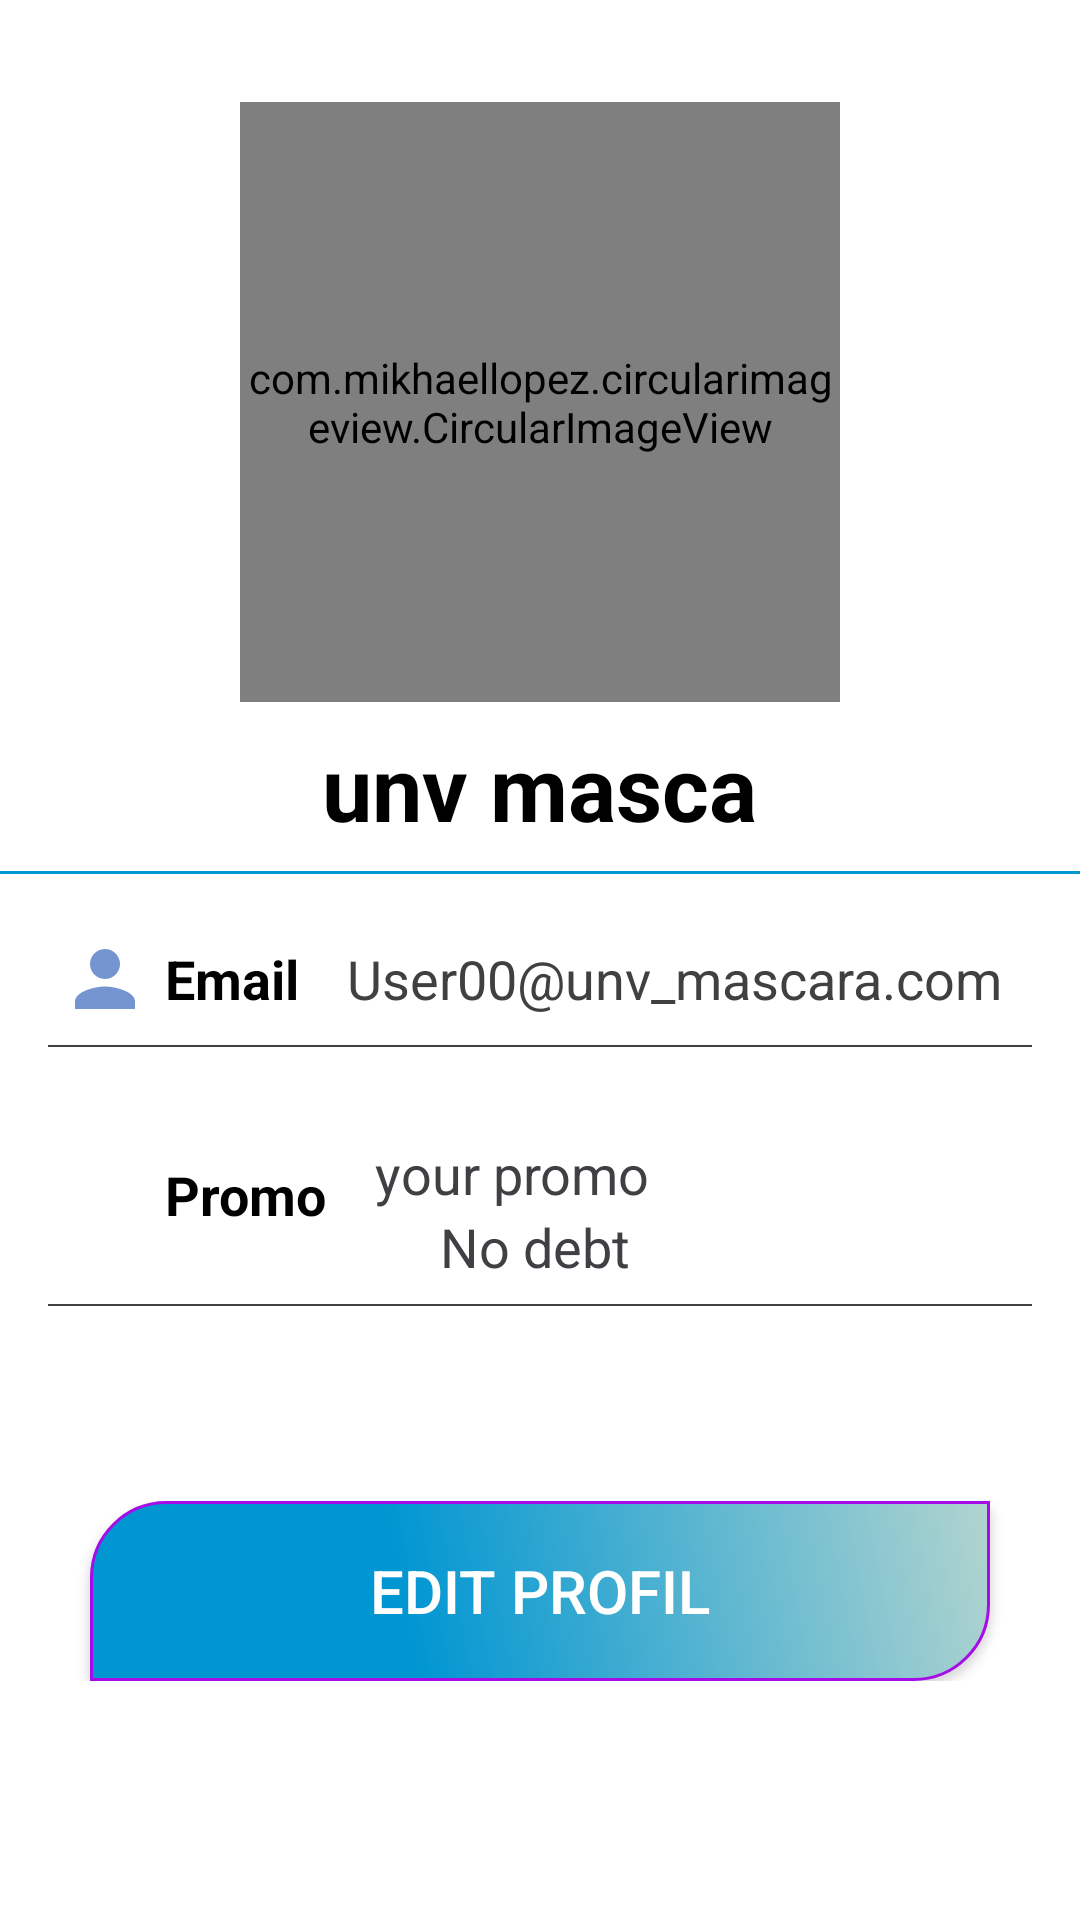

Icon click points for this 1080 x 1920 phone screenshot, format (x=x, y=y):
person: (x=105, y=979)
